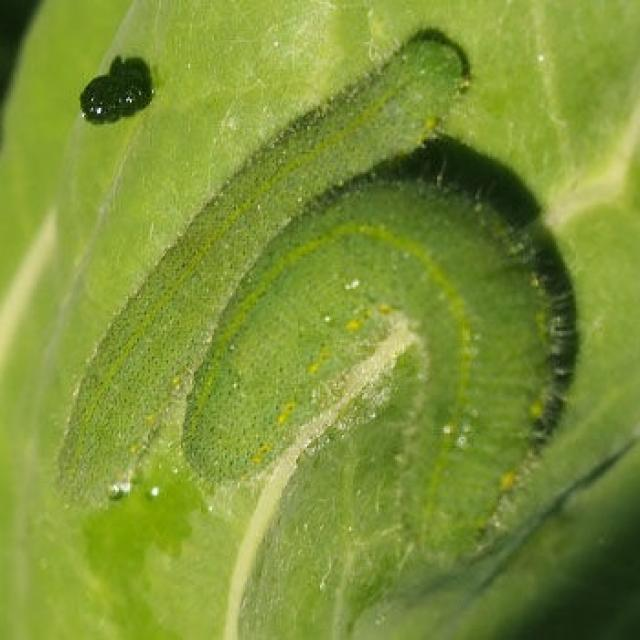Cabbage-worm: (45, 35, 605, 593)
